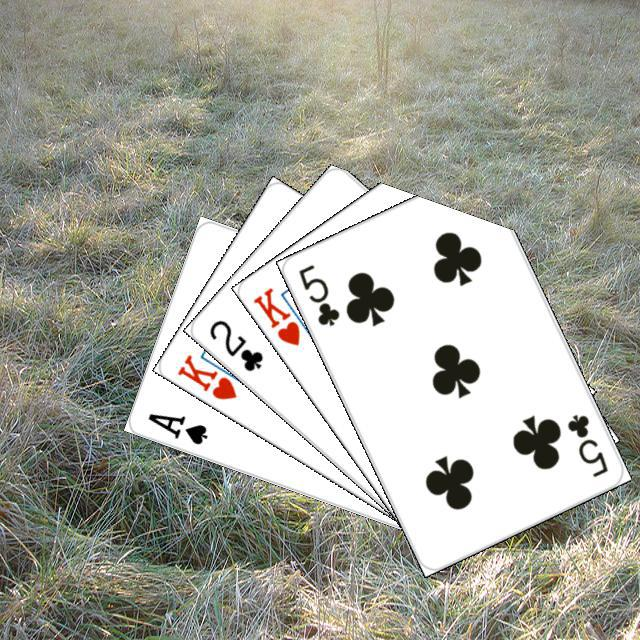2c: (204, 314, 265, 374)
5c: (293, 259, 342, 328), (562, 409, 610, 479)
As: (142, 408, 209, 447)
Kh: (248, 282, 317, 348), (172, 347, 252, 402)
